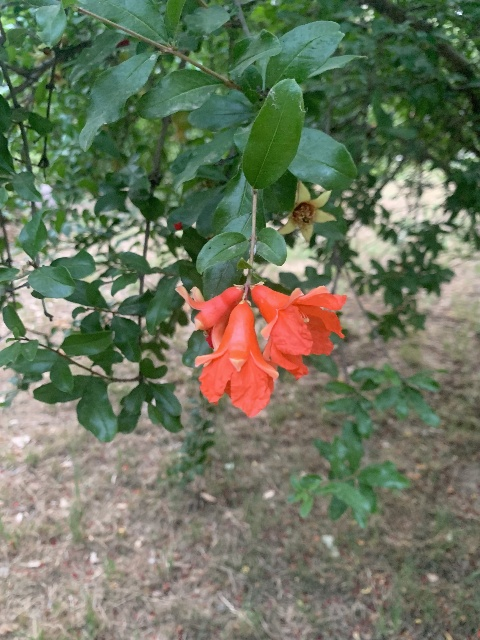early-fruit: (276, 181, 337, 246)
flower: (195, 302, 277, 416), (252, 284, 346, 379), (176, 283, 243, 346)
mid-growth: (168, 112, 192, 144)
